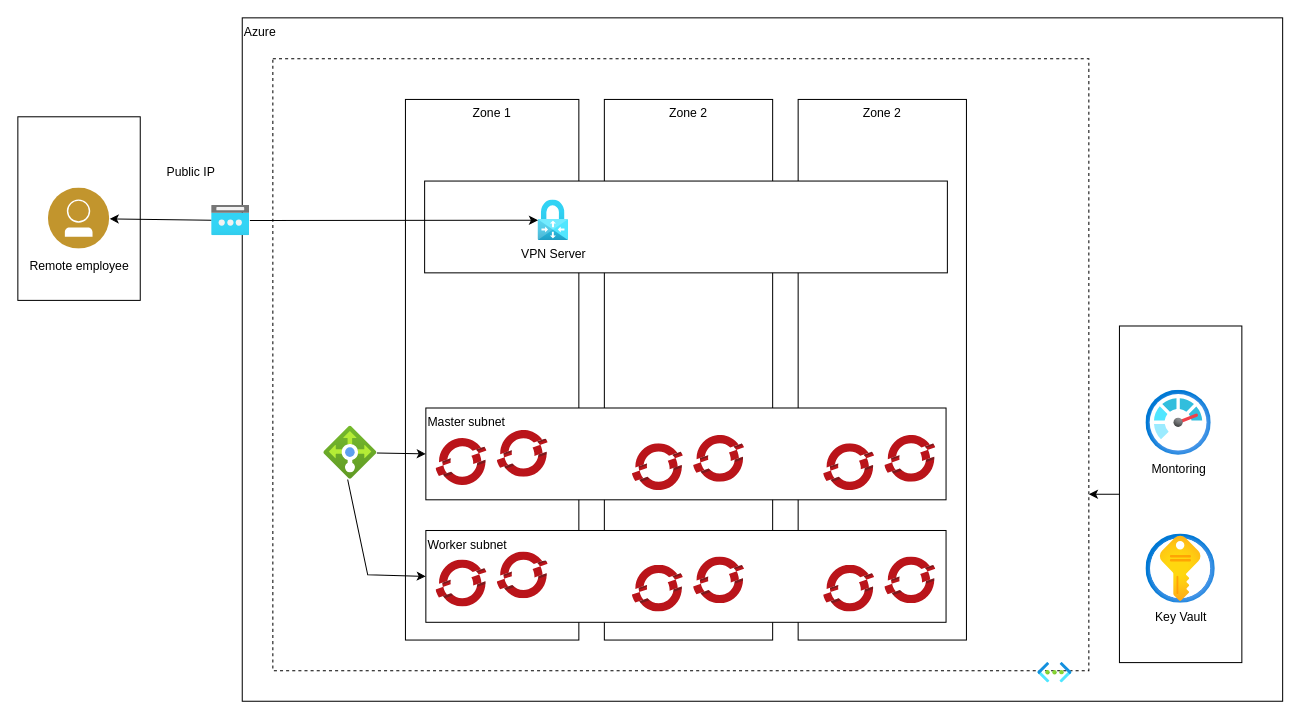
Image size: 1301x719. Some labels were removed from this diagram. The shapes that lost their labels are listed below. From the top down, each one's box as (x1, y1, x2, y2) in pixels, then its label:
(17, 116, 140, 300): Public internet
(424, 180, 947, 273): Ingress subnet
(272, 58, 1089, 671): Edge VNet
(323, 426, 376, 479): Internal Load Balancer
(1118, 325, 1242, 663): Cloud services
